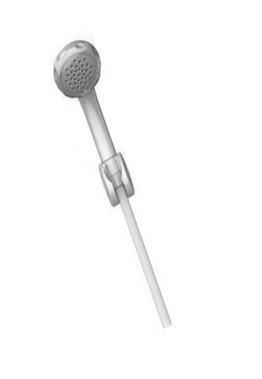Ducha: (51, 30, 189, 334)
